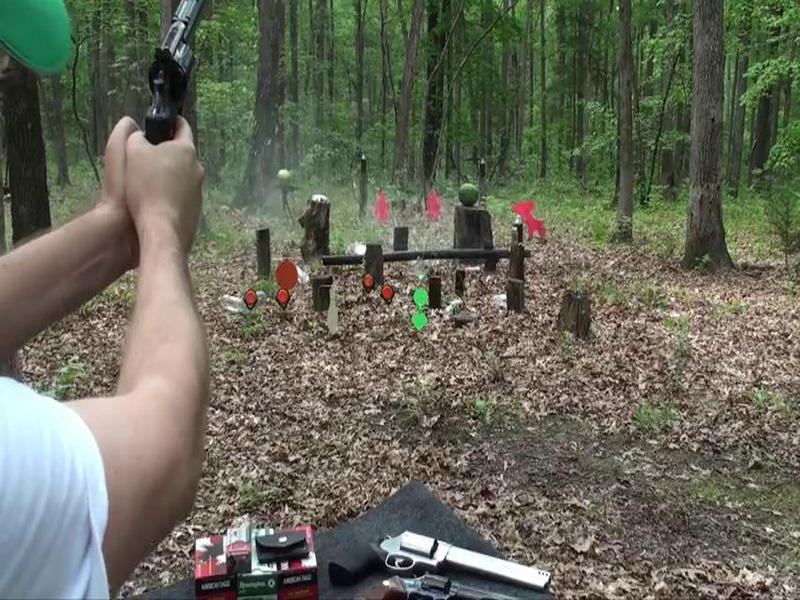Revolver: (133, 1, 216, 157)
